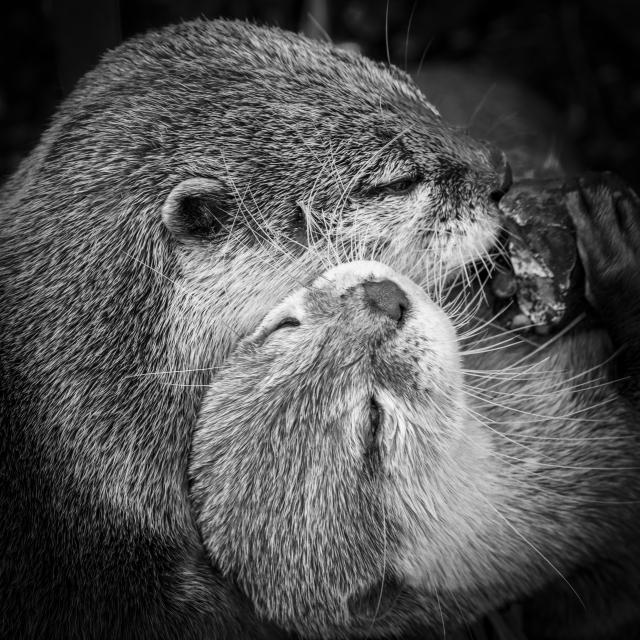otter: (12, 21, 509, 528), (190, 264, 532, 626)
